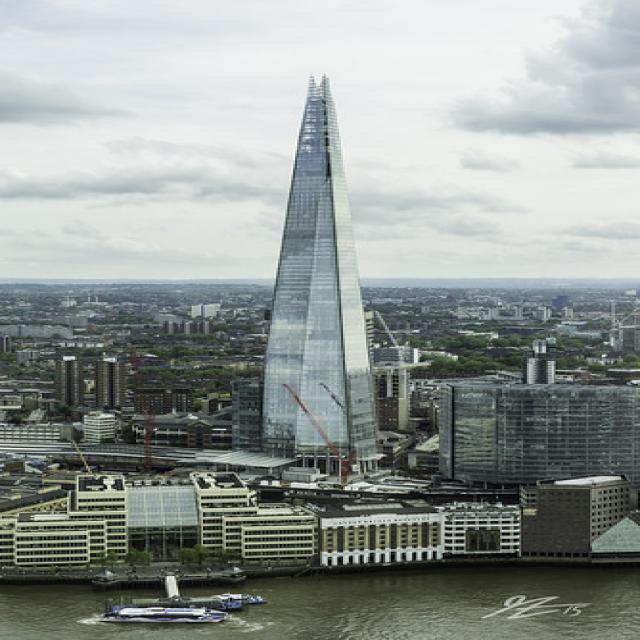Normal_building: (249, 69, 391, 479)
